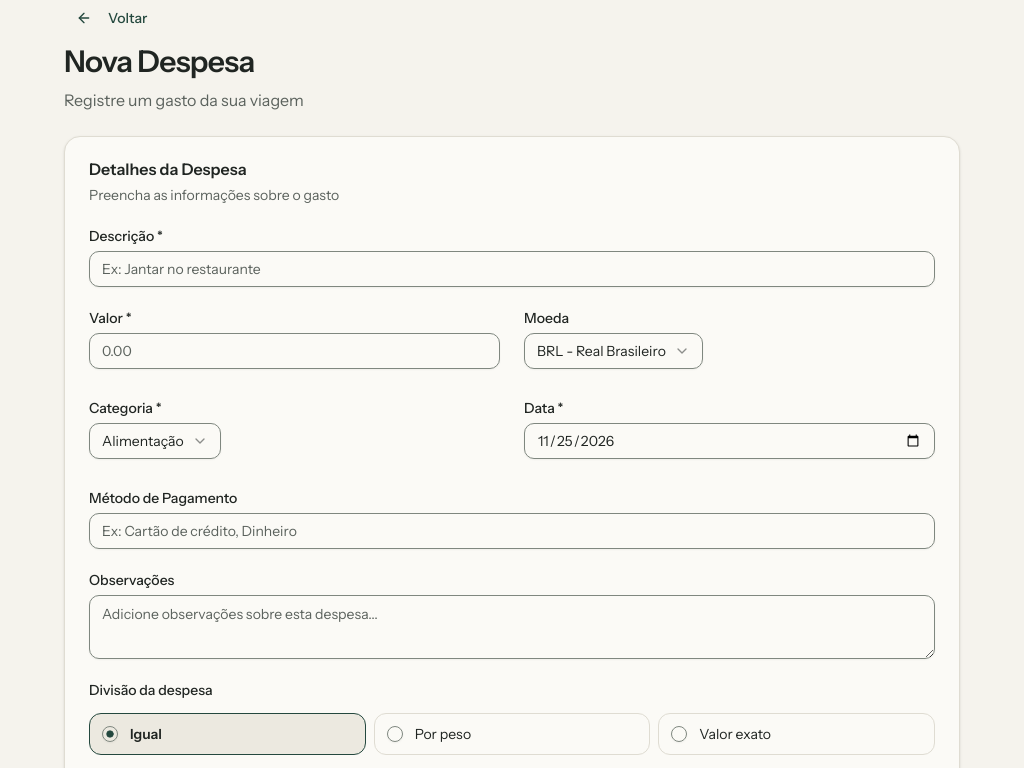
Scenario: Nova despesa — divisão igual › R$ 10,00 entre 3: prévia 3,34 + 3,33 + 3,33, soma 10,00, e envia o rateio
Later steps or results of the test are not shown.
Check: the heading "Nova Despesa" is shown, box [64,43,255,80]
Type "Jantar" into the field labelled "Descrição *". click: (512, 269)
box: [89,251,935,287]
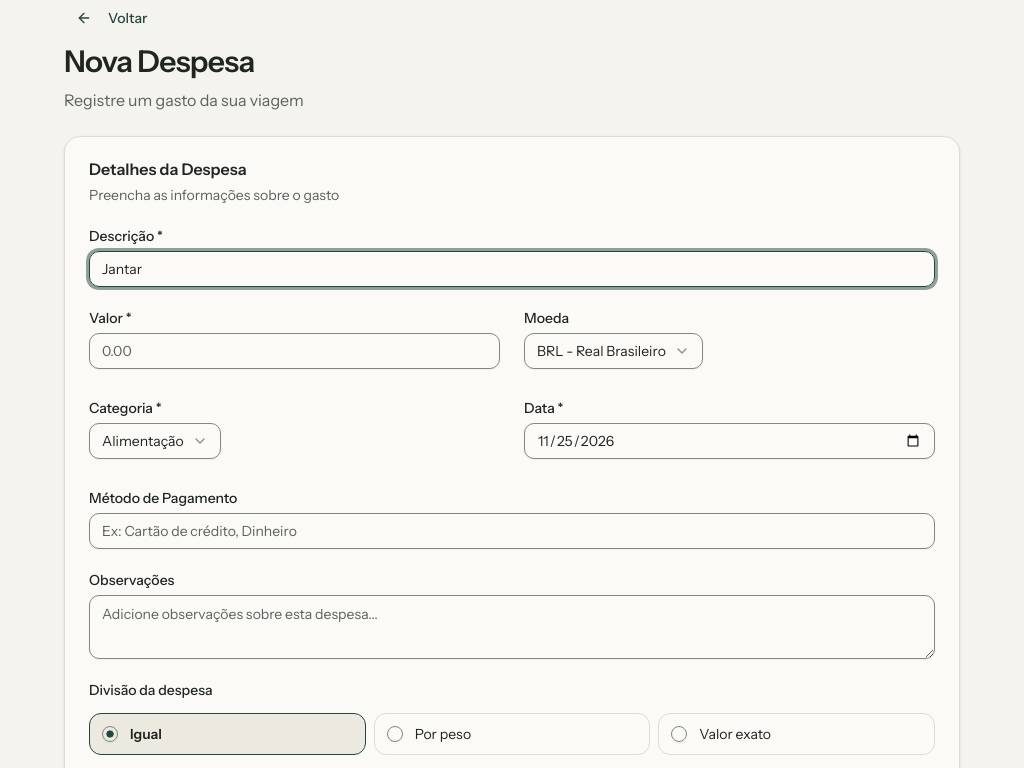
Type "10.00" into the number field labelled "Valor *". click: (294, 351)
box: [89,333,500,369]
(page scrolled)
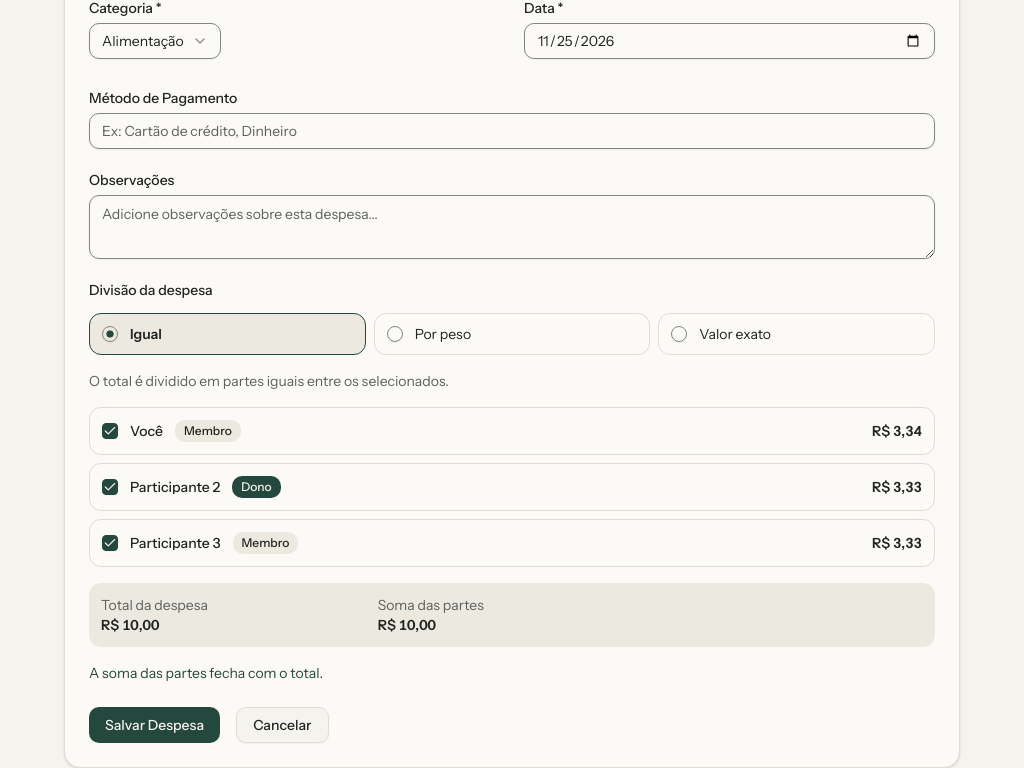
Check: the text "R$ 10,00" below "Total da despesa" is shown, box [101,616,159,634]
Check: the text "A soma das partes fecha com o total." is shown, box [89,664,323,682]
Check: the button "Salvar Despesa" is enabled, box [89,707,220,743]
